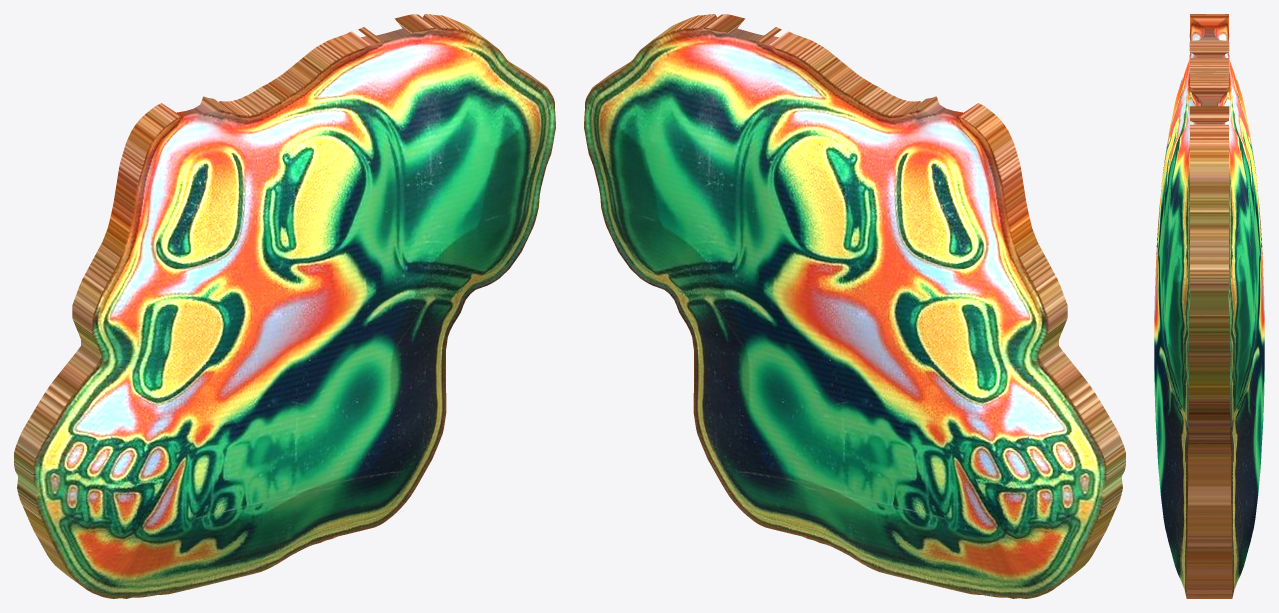
3 views of the same model, side by side, from view 1: azimuth 30°, elevation 25°; view 2: azimuth 150°, elevation 25°; view 3: azimuth 270°, elevation 25° (orthographic). The views are drawn at different scales.
Size of the model in its own units: 8.58 by 7.86 by 1.49.
Materials: 1 (1 with a texture image).
